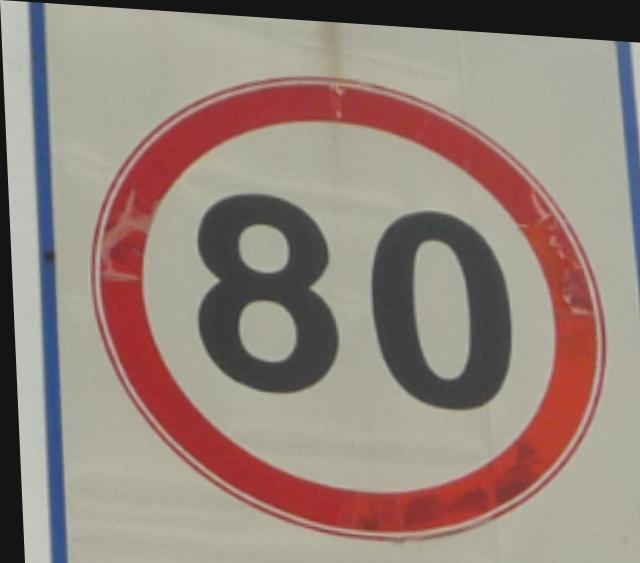limit80: (55, 42, 617, 562)
